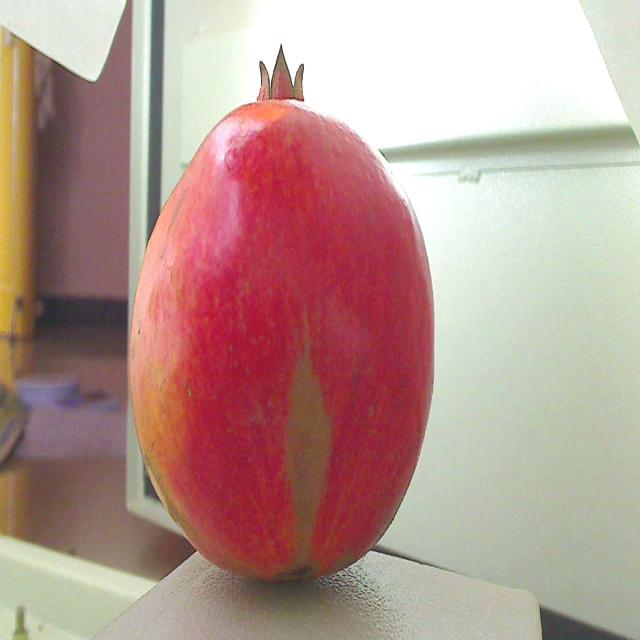pomegranate: (115, 40, 447, 594)
